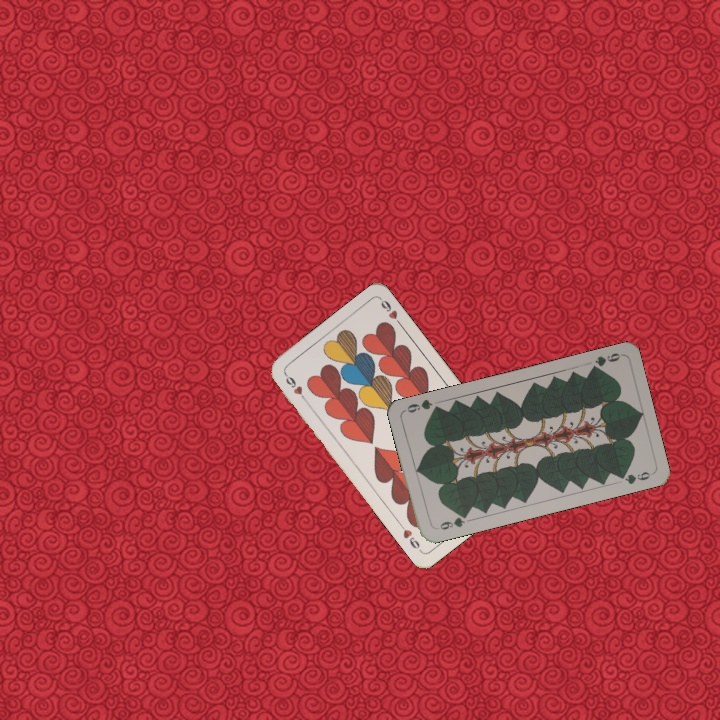G9: (586, 349, 624, 374), (431, 510, 470, 532)
H9: (281, 369, 309, 405)
